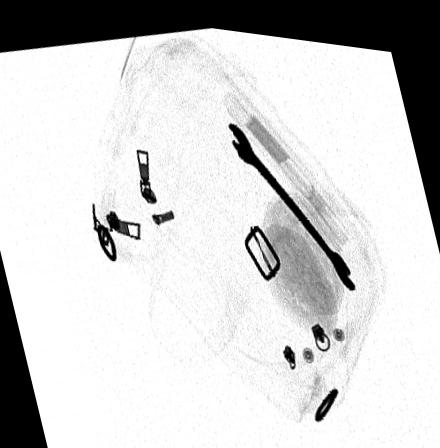Wrench: (223, 114, 357, 283)
